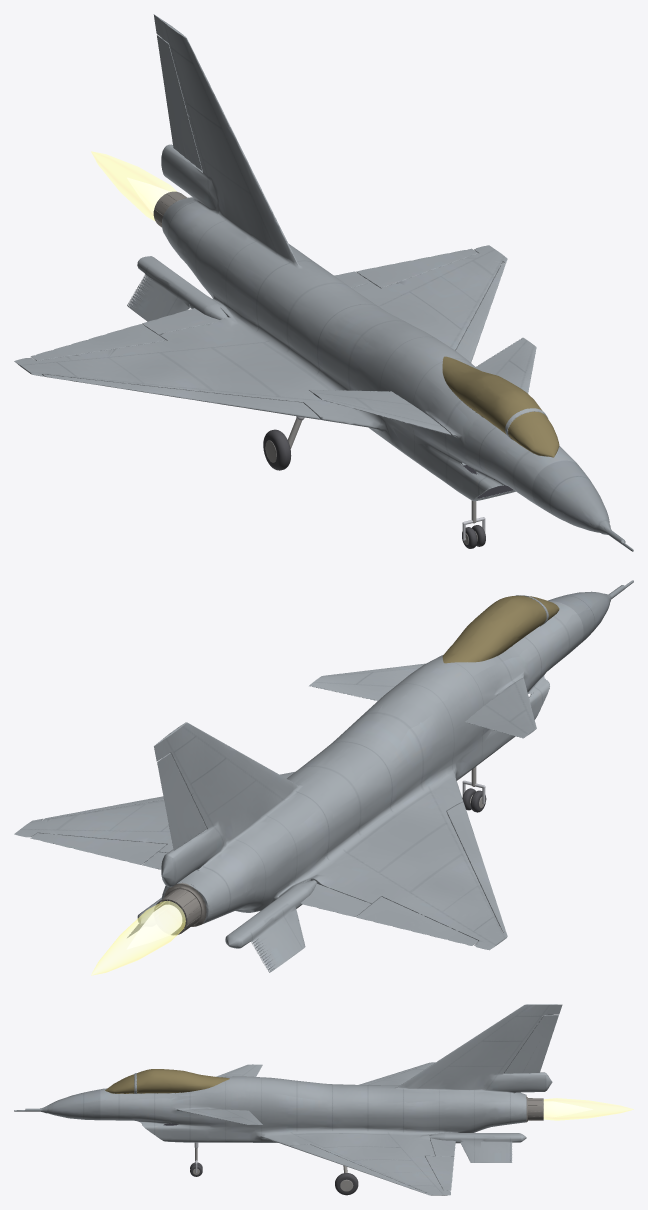
3 views of the same model, one above another, from view 1: azimuth 30°, elevation 25°; view 2: azimuth 150°, elevation 25°; view 3: azimuth 270°, elevation 25° (orthographic). The views are drawn at different scales.
Parts seen in each view (by area): view 1: airframe, fsim:elevator@-20,50 (×2), fsim:lef@-3,25 (×2), fsim:afterburner:0, fsim:rudder, fsim:elevator+aileron:-1@-25,25, fsim:elevator+aileron:1@-25,25, fsim:elevator+aileron:-1+flaps:1@-25,25, fsim:wheel:2:0.365; view 2: airframe, fsim:elevator@-20,50 (×2), fsim:afterburner:0, fsim:rudder, fsim:elevator+aileron:-1@-25,25, fsim:elevator+aileron:1@-25,25, fsim:lef@-3,25, fsim:elevator+aileron:-1+flaps:1@-25,25; view 3: airframe, fsim:rudder, fsim:afterburner:0, fsim:elevator@-20,50 (×2), fsim:lef@-3,25, fsim:elevator+aileron:1@-25,25, fsim:wheel:1:0.365, fsim:elevator+aileron:1+flaps:1@-25,25.
Boxes of the visible parts, <box> form: airframe: <box>14,14,633,551</box>; fsim:elevator@-20,50 (×2): <box>309,337,536,435</box>; fsim:lef@-3,25 (×2): <box>42,262,505,419</box>; fsim:afterburner:0: <box>91,151,176,221</box>; fsim:rudder: <box>157,35,202,171</box>; fsim:elevator+aileron:-1@-25,25: <box>31,324,166,360</box>; fsim:elevator+aileron:1@-25,25: <box>356,248,478,288</box>; fsim:elevator+aileron:-1+flaps:1@-25,25: <box>142,308,219,334</box>; fsim:wheel:2:0.365: <box>263,429,291,470</box>; airframe: <box>14,580,633,972</box>; fsim:elevator@-20,50 (×2): <box>309,663,536,738</box>; fsim:afterburner:0: <box>91,901,185,975</box>; fsim:rudder: <box>157,753,206,850</box>; fsim:elevator+aileron:-1@-25,25: <box>356,896,478,945</box>; fsim:elevator+aileron:1@-25,25: <box>30,833,166,864</box>; fsim:lef@-3,25: <box>446,802,505,932</box>; fsim:elevator+aileron:-1+flaps:1@-25,25: <box>300,884,371,916</box>; airframe: <box>14,1004,562,1195</box>; fsim:rudder: <box>504,1015,558,1073</box>; fsim:afterburner:0: <box>543,1098,633,1120</box>; fsim:elevator@-20,50 (×2): <box>181,1064,262,1124</box>; fsim:lef@-3,25: <box>290,1144,425,1193</box>; fsim:elevator+aileron:1@-25,25: <box>425,1156,454,1190</box>; fsim:wheel:1:0.365: <box>335,1173,358,1195</box>; fsim:elevator+aileron:1+flaps:1@-25,25: <box>430,1138,455,1156</box>.
Bounding box in the file's own units: 9.71 × 5.87 × 19.18.
Materials: 9 (1 with a texture image).
